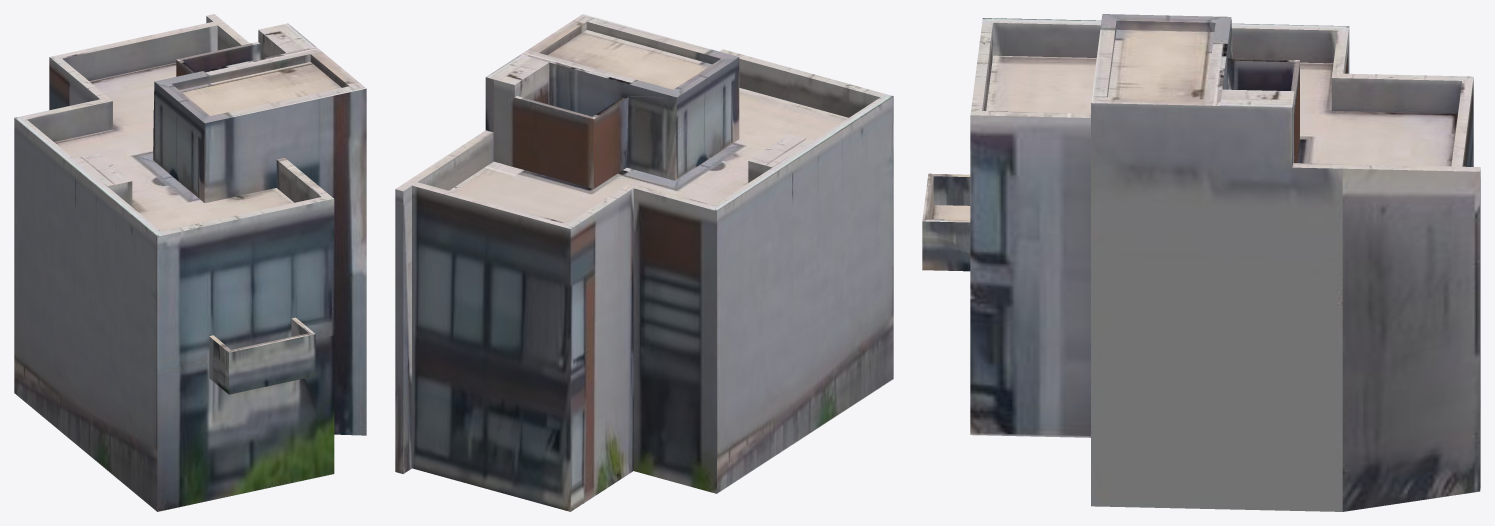
3 renders of one model, left to right at view 1: azimuth 30°, elevation 25°; view 2: azimuth 150°, elevation 25°; view 3: azimuth 270°, elevation 25°, orthographic. The views are drawn at different scales.
Visible parts, largest first — view 1: B284774030901062A0; view 2: B284774030901062A0; view 3: B284774030901062A0.
Boxes of the visible parts, x1=… form: B284774030901062A0: x1=14, y1=14, x2=366, y2=511; B284774030901062A0: x1=395, y1=14, x2=893, y2=511; B284774030901062A0: x1=922, y1=14, x2=1480, y2=511.
Bounding box in the file's own units: 9.68 × 11.83 × 14.85.
1 material, 1 textured.
